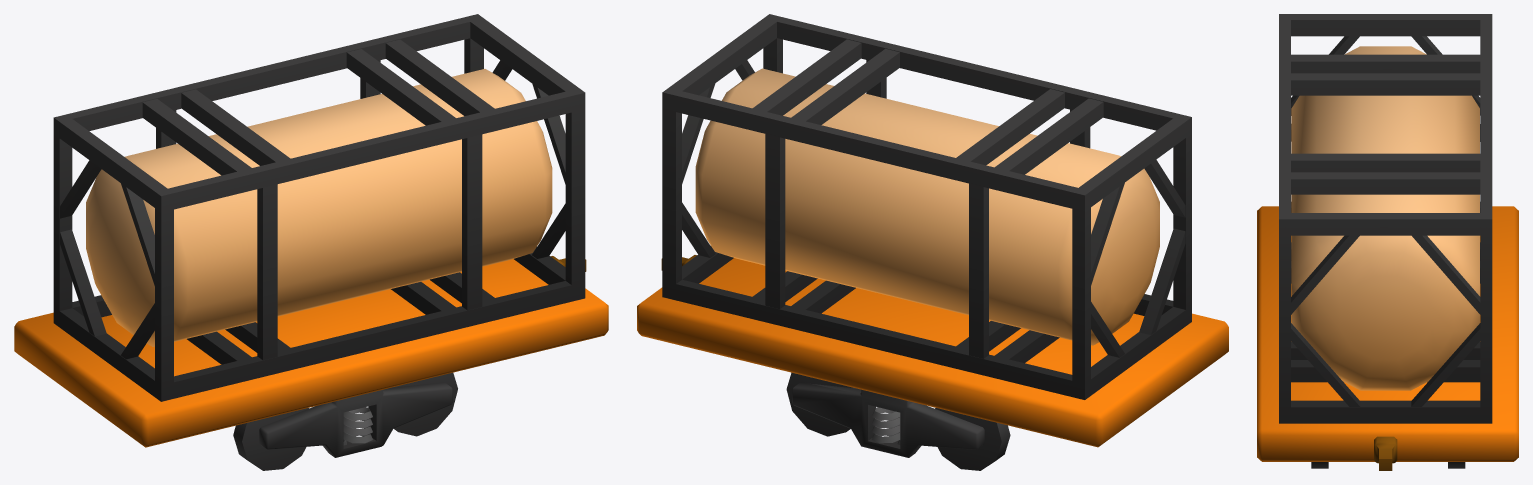
File: Vehicle_Train_A_03.fbx
The picture shows the model from 3 angles, left to right: view 1: azimuth 30°, elevation 25°; view 2: azimuth 150°, elevation 25°; view 3: azimuth 270°, elevation 25°; orthographic projection.
Parts seen in each view (by area): view 1: Vehicle_Train_A_03; view 2: Vehicle_Train_A_03; view 3: Vehicle_Train_A_03.
Part boxes in pixels (bbox=[...]): Vehicle_Train_A_03: bbox=[14, 14, 608, 470]; Vehicle_Train_A_03: bbox=[637, 14, 1228, 470]; Vehicle_Train_A_03: bbox=[1257, 14, 1518, 470].
Size of the model in its own units: 329 by 199 by 149.
